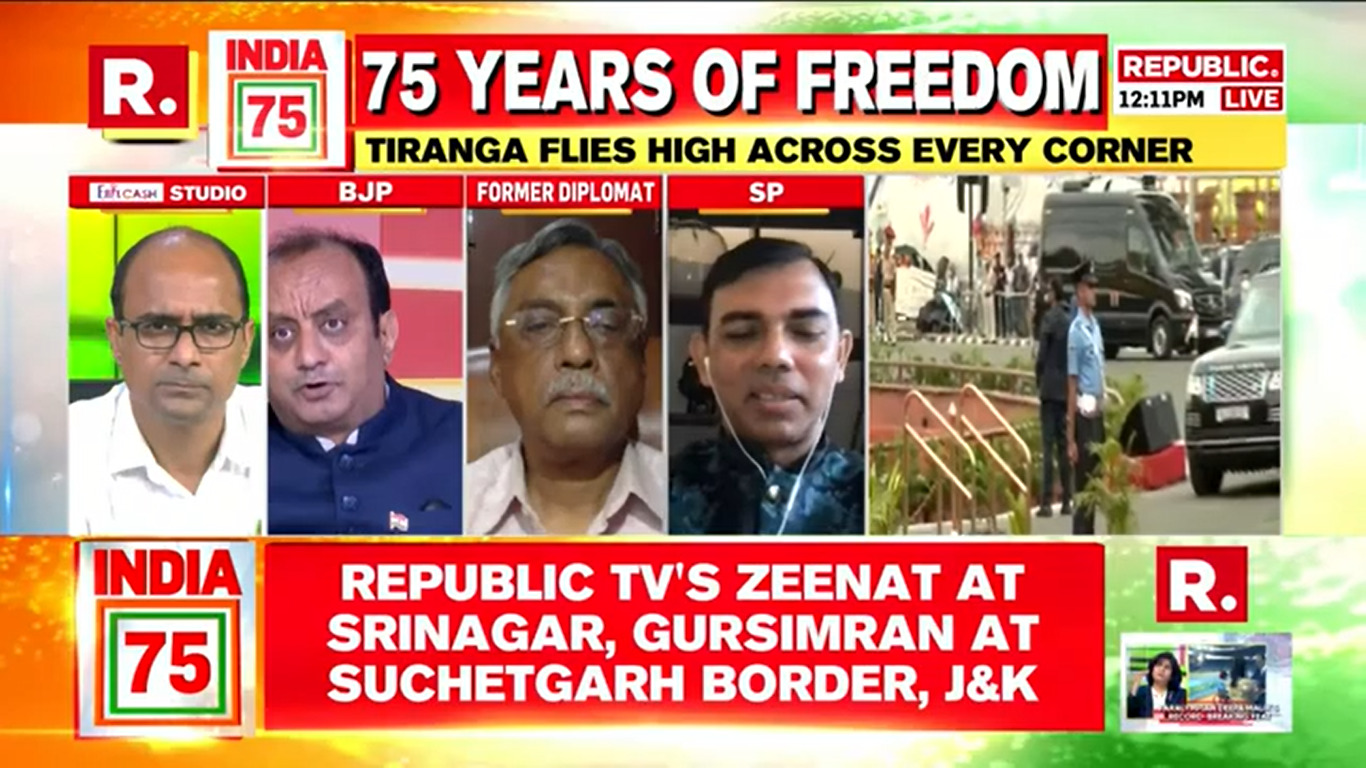Indi75: (69, 541, 259, 744), (203, 32, 361, 174)
person: (67, 204, 268, 540), (676, 226, 871, 539), (475, 219, 660, 537), (276, 229, 461, 535)
